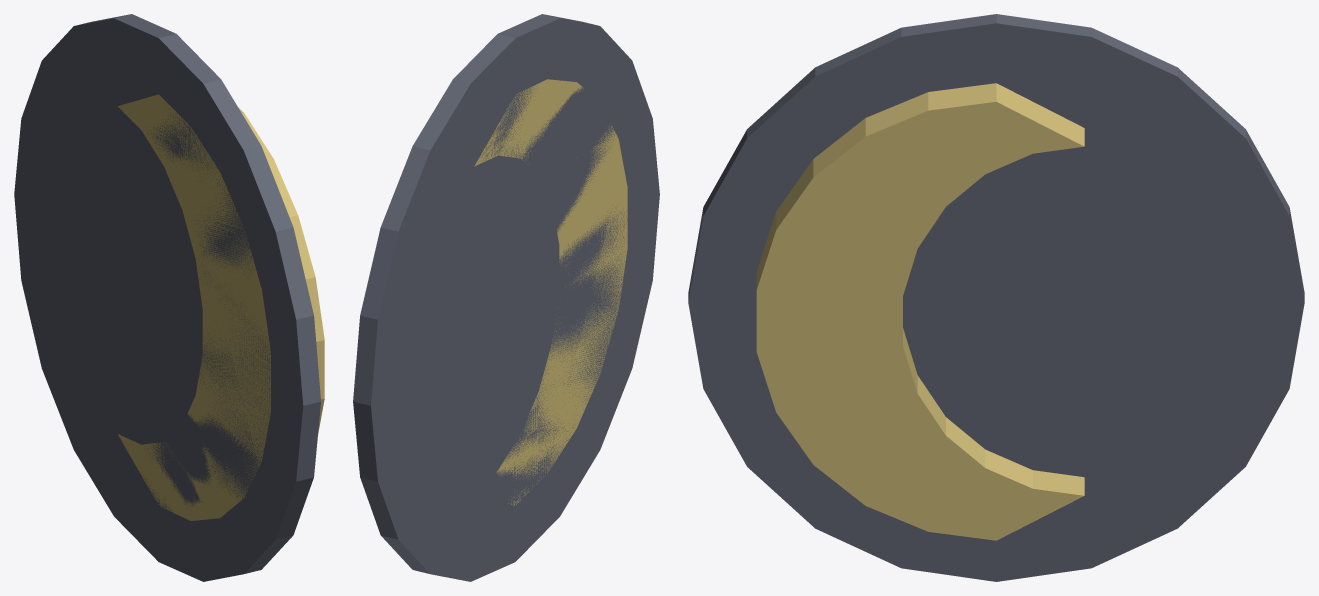
Rendered from SM_BM_HV_Emblem_Moon.glb.
3 views of the same model, side by side, from view 1: azimuth 30°, elevation 25°; view 2: azimuth 150°, elevation 25°; view 3: azimuth 270°, elevation 25° (orthographic). The views are drawn at different scales.
Parts seen in each view (by area): view 1: SM_BM_HV_Emblem_Moon; view 2: SM_BM_HV_Emblem_Moon; view 3: SM_BM_HV_Emblem_Moon.
Boxes of the visible parts, <box> form: SM_BM_HV_Emblem_Moon: <box>14,14,324,581</box>; SM_BM_HV_Emblem_Moon: <box>353,14,659,581</box>; SM_BM_HV_Emblem_Moon: <box>688,14,1304,581</box>.
Size of the model in its own units: 0.09 by 0.84 by 0.84.
